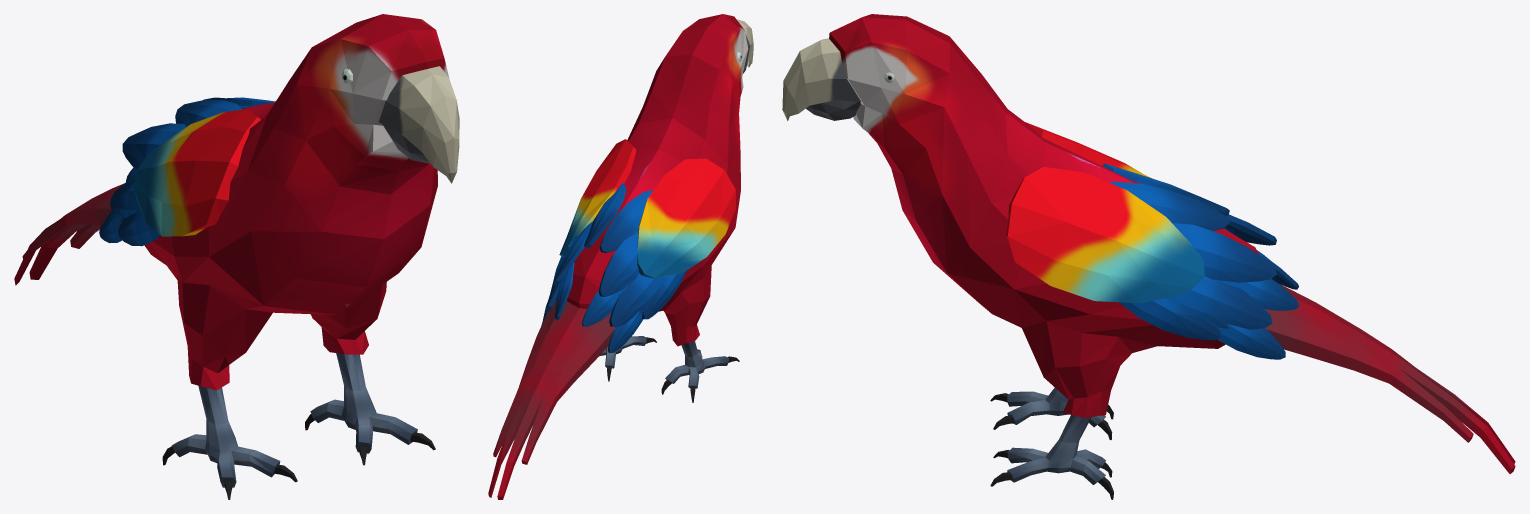
Rendered from parrot.glb.
The picture shows the model from 3 angles, left to right: view 1: azimuth 30°, elevation 25°; view 2: azimuth 150°, elevation 25°; view 3: azimuth 270°, elevation 25°; orthographic projection. The views are drawn at different scales.
Visible parts, largest first — view 1: Node; view 2: Node; view 3: Node.
Boxes of the visible parts, left/top/right/bottom form: Node: left=14, top=14, right=459, bottom=499; Node: left=488, top=14, right=753, bottom=499; Node: left=782, top=14, right=1515, bottom=499.
Size of the model in its own units: 0.0446 by 0.0985 by 0.1446.
2 materials, 1 textured.
